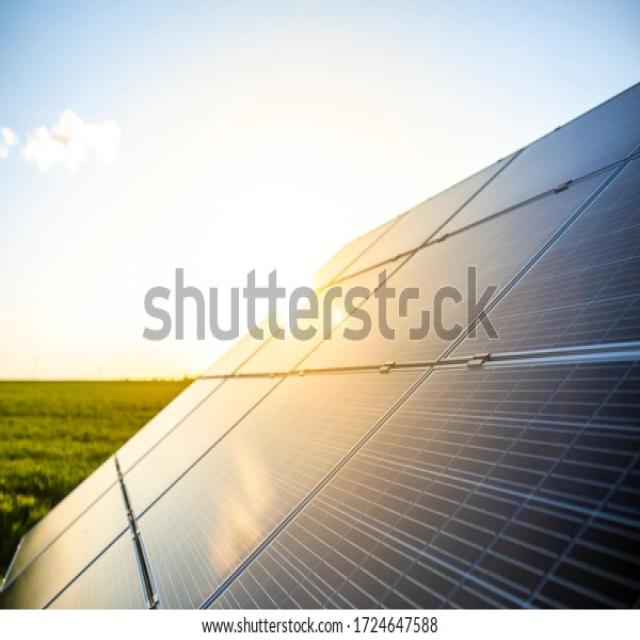clean-solar-panel: (0, 85, 640, 607)
